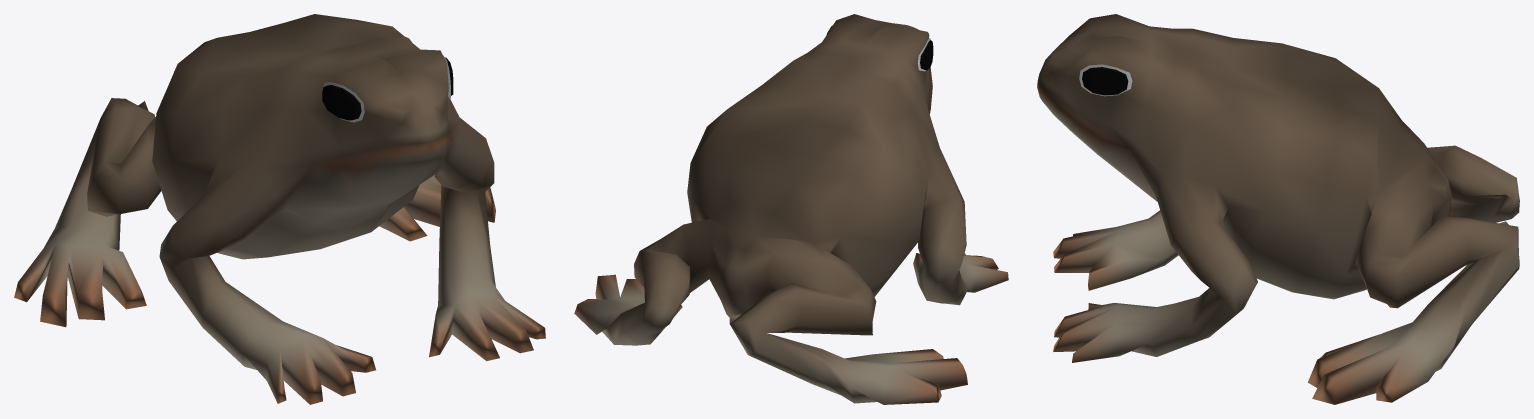
Rendered from Toad.fbx.
3 renders of one model, left to right at view 1: azimuth 30°, elevation 25°; view 2: azimuth 150°, elevation 25°; view 3: azimuth 270°, elevation 25°, orthographic. The views are drawn at different scales.
Visible parts, largest first — view 1: Toad; view 2: Toad; view 3: Toad.
Part boxes in pixels (<box>): Toad: <box>14,14,545,404</box>; Toad: <box>574,14,1008,404</box>; Toad: <box>1037,14,1519,404</box>.
Bounding box in the file's own units: 1.04 × 0.6373 × 1.04.
